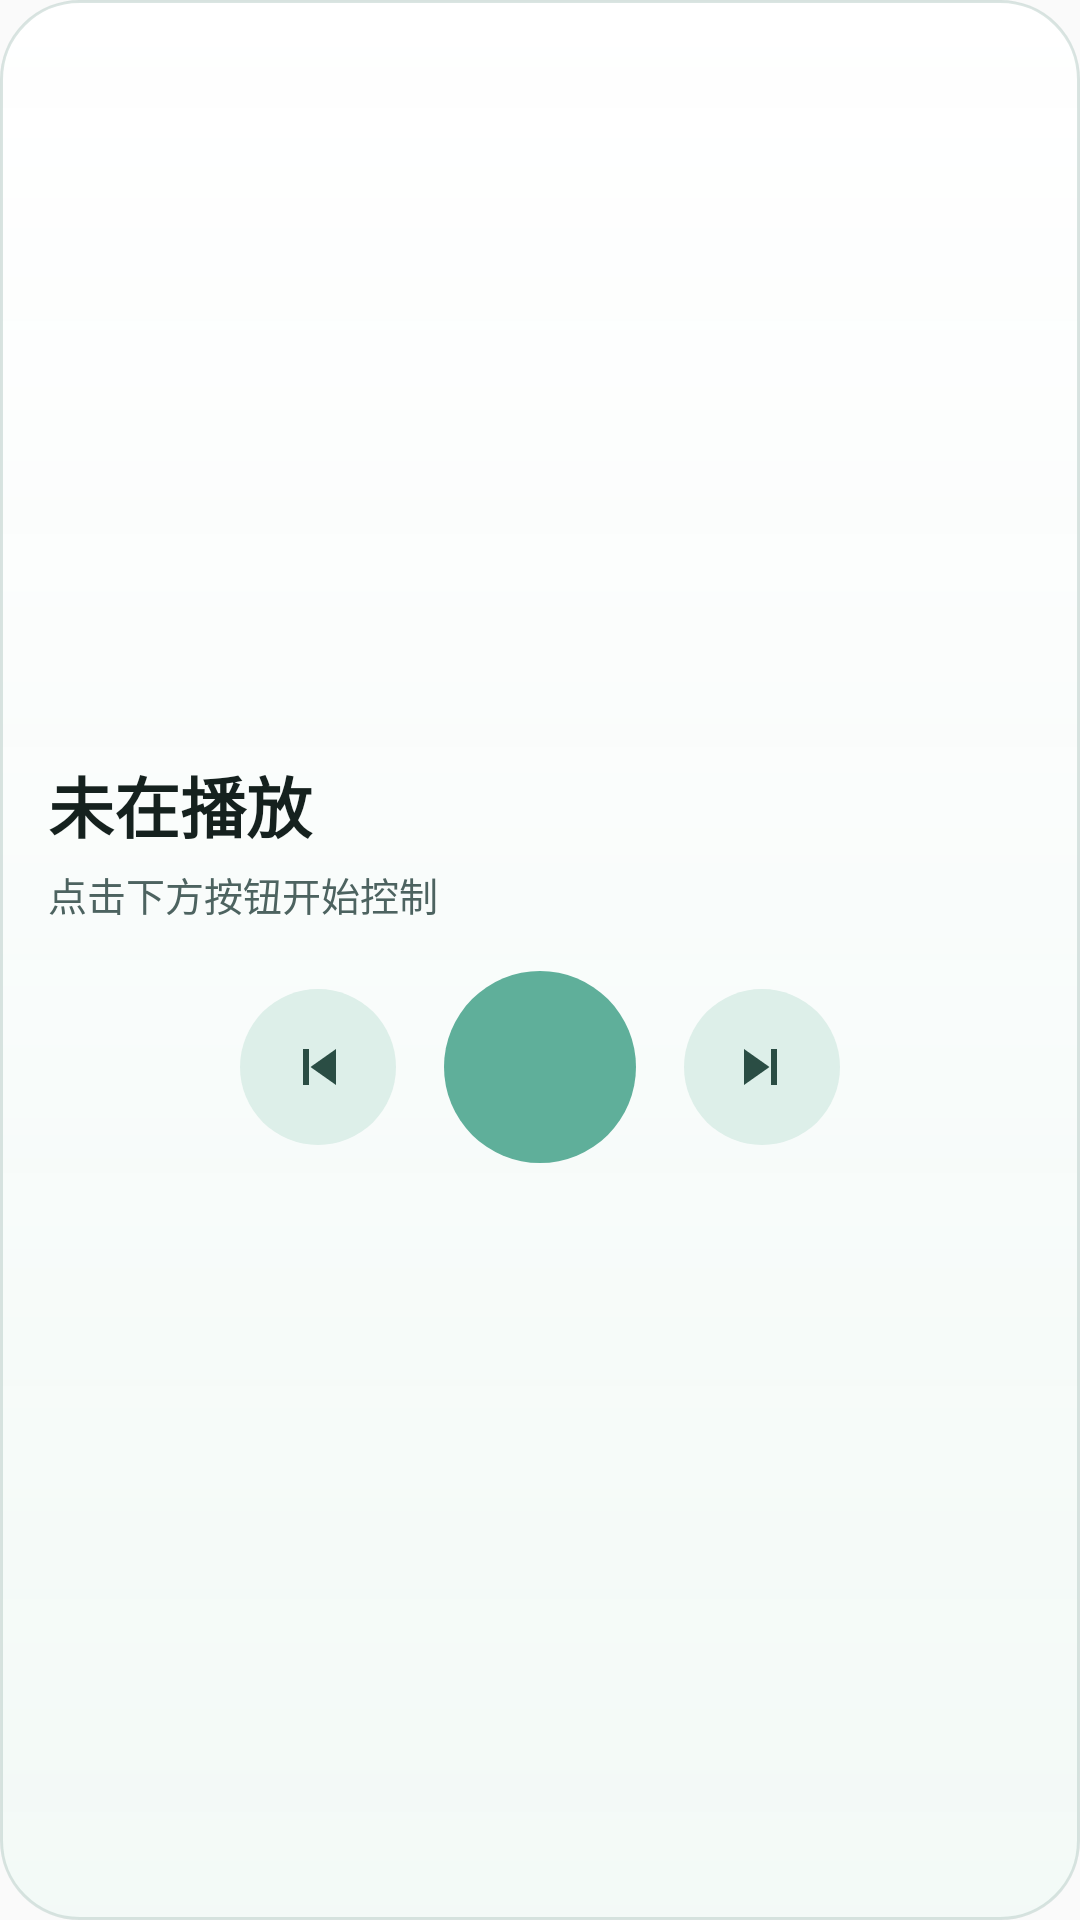

Icons on this 1080x1920 Android screen, each with the point to tap as (x,y):
上一首: (318,1067)
下一首: (762,1067)
